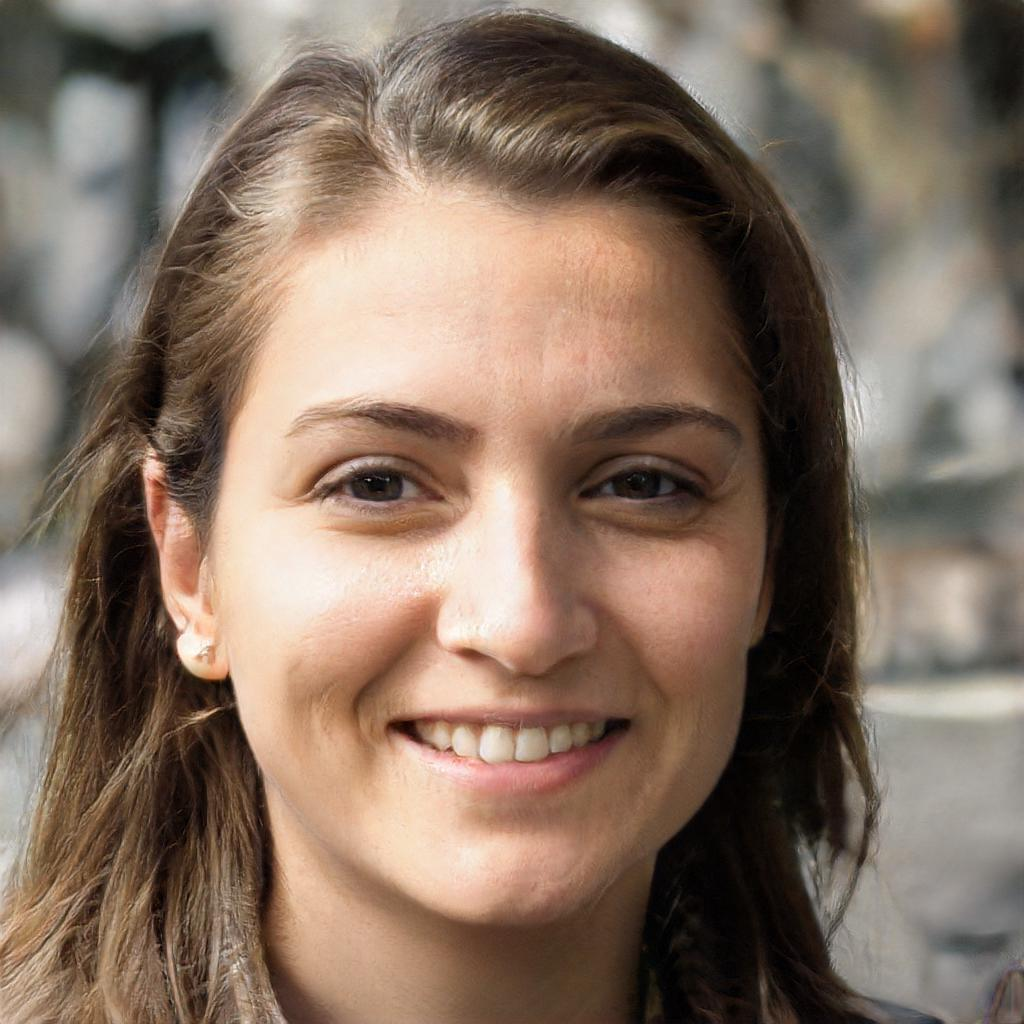face: (213, 200, 767, 926)
